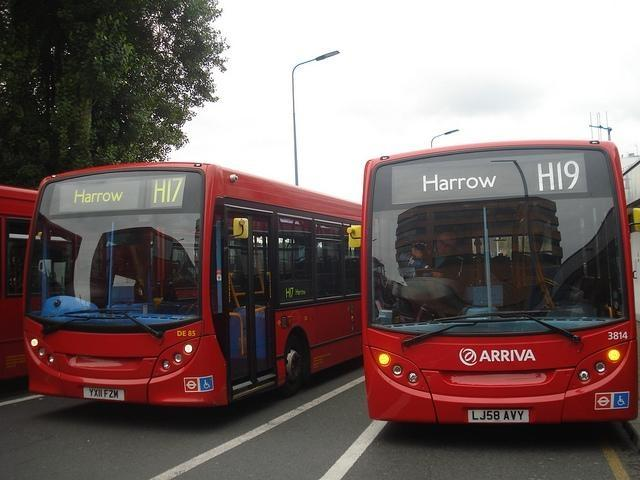bus: (17, 162, 364, 407), (362, 145, 640, 427), (1, 184, 41, 387)
